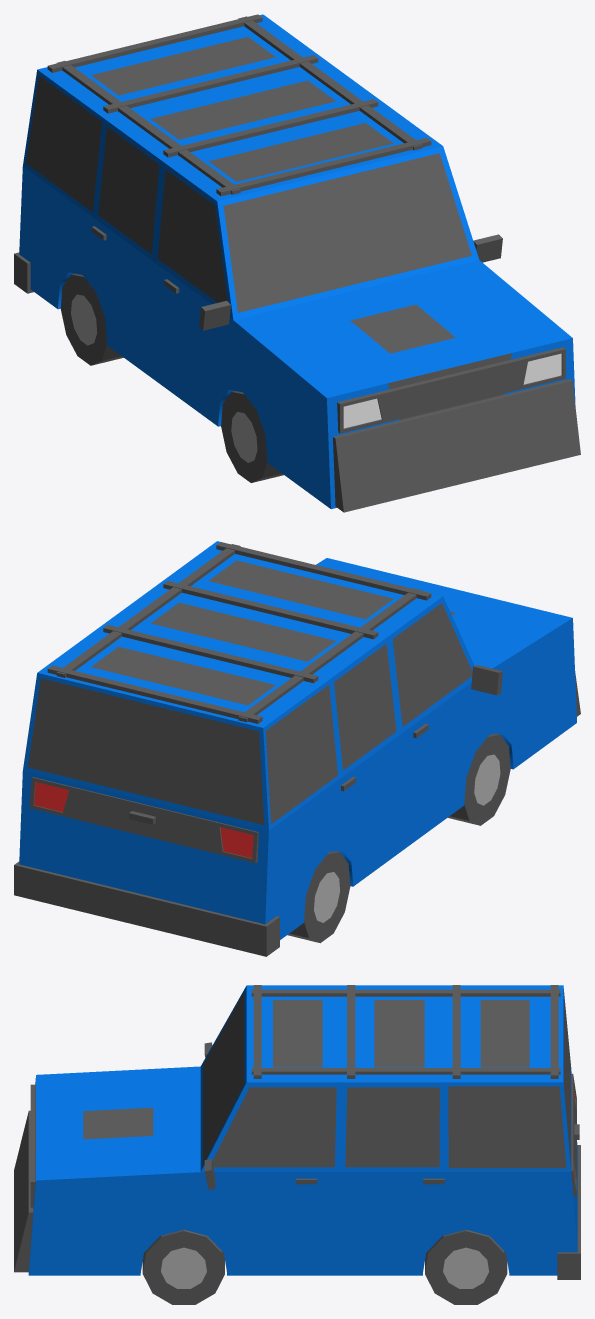
The model's file is SM_Car_02_02.FBX.
The picture shows the model from 3 angles, top to bottom: view 1: azimuth 30°, elevation 25°; view 2: azimuth 150°, elevation 25°; view 3: azimuth 270°, elevation 25°; orthographic projection. The views are drawn at different scales.
Parts seen in each view (by area): view 1: SM_Car_02_02, SM_Wheel_LFront002, SM_Wheel_RBack001; view 2: SM_Car_02_02, SM_Wheel_LFront002, SM_Wheel_RBack001; view 3: SM_Car_02_02, SM_Wheel_LBack001, SM_Wheel_LFront001.
Boxes of the visible parts, x1,y1,x2,y2 form: SM_Car_02_02: [14, 14, 580, 512]; SM_Wheel_LFront002: [221, 391, 283, 482]; SM_Wheel_RBack001: [60, 273, 123, 365]; SM_Car_02_02: [14, 541, 580, 956]; SM_Wheel_LFront002: [448, 733, 510, 825]; SM_Wheel_RBack001: [287, 851, 350, 943]; SM_Car_02_02: [14, 985, 580, 1279]; SM_Wheel_LBack001: [425, 1229, 507, 1304]; SM_Wheel_LFront001: [142, 1229, 224, 1304].
Size of the model in its own units: 1.82 by 1.48 by 3.41.
1 material, 1 textured.
